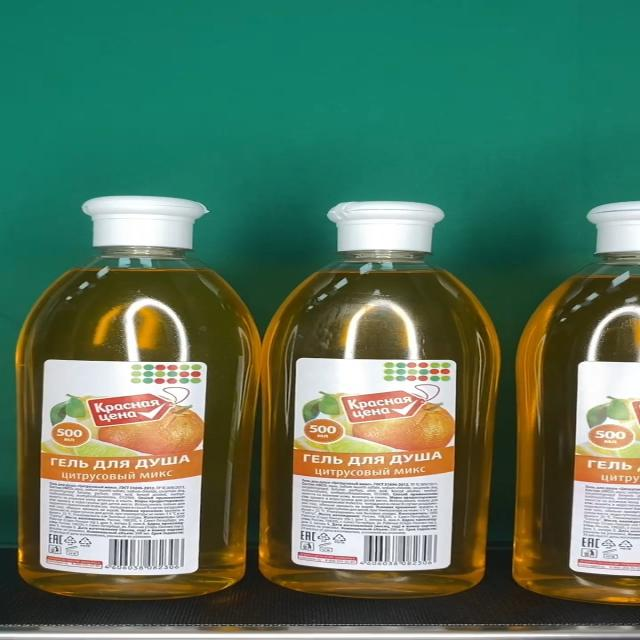Bottle: (16, 196, 262, 598), (262, 201, 502, 600)
Cap: (81, 196, 207, 246), (326, 201, 444, 252)
